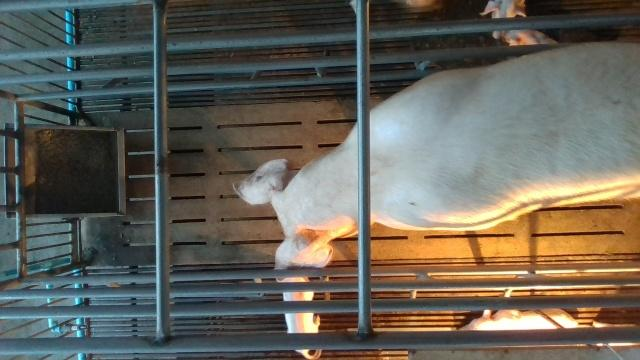piglet: (282, 277, 324, 360), (459, 308, 578, 331)
sow-stand: (235, 41, 640, 281)
